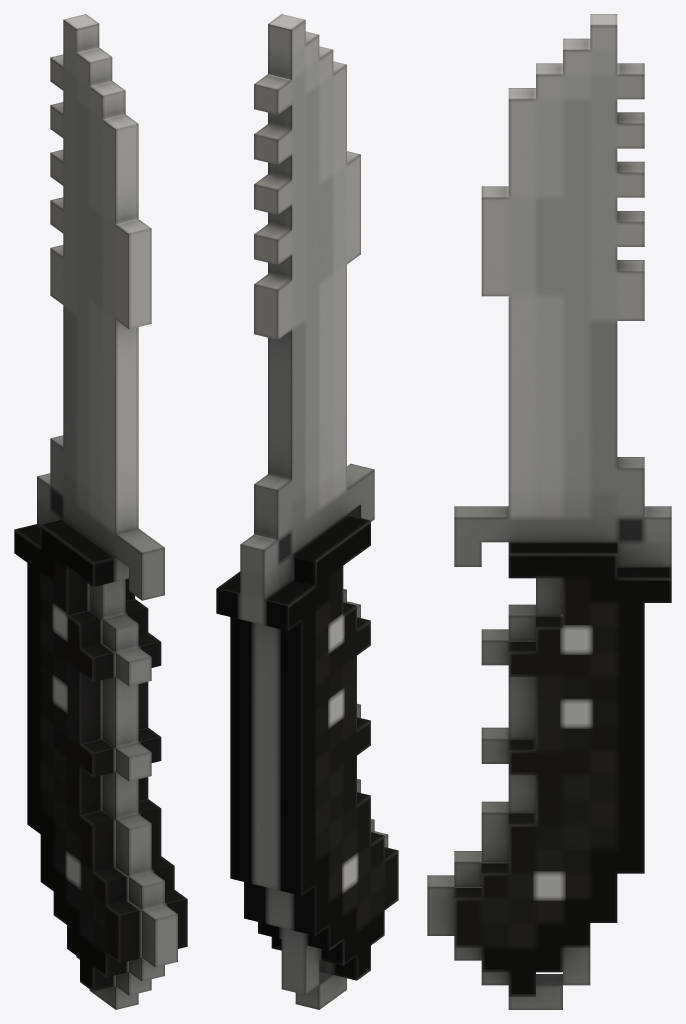
The model's file is RD_HUNTING_KNIFE.glb.
The picture shows the model from 3 angles, left to right: view 1: azimuth 30°, elevation 25°; view 2: azimuth 150°, elevation 25°; view 3: azimuth 270°, elevation 25°; orthographic projection. The views are drawn at different scales.
Parts seen in each view (by area): view 1: HUNTING_KNIFE; view 2: HUNTING_KNIFE; view 3: HUNTING_KNIFE.
Boxes of the visible parts, x1,y1,x2,y2 form: HUNTING_KNIFE: [14, 14, 187, 1009]; HUNTING_KNIFE: [216, 14, 398, 1009]; HUNTING_KNIFE: [427, 14, 671, 1009].
Size of the model in its own units: 0.0591 by 0.7874 by 0.1772.
Materials: 1 (1 with a texture image).
